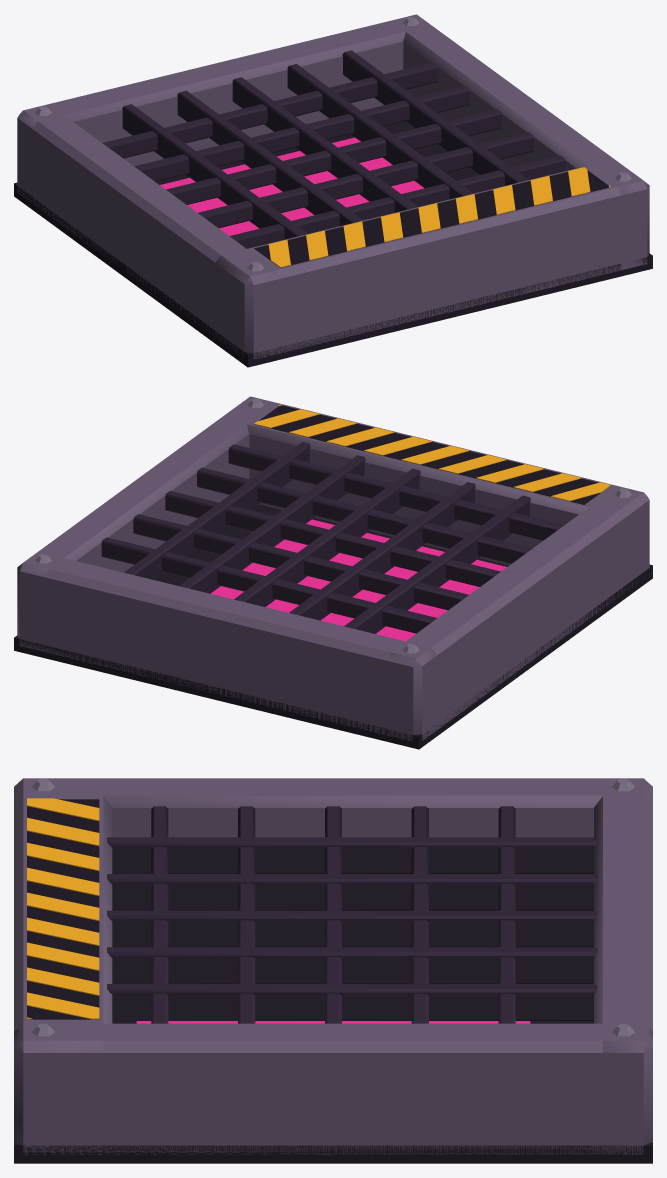
Rendered from floor_grate__lower.glb.
3 renders of one model, top to bottom at view 1: azimuth 30°, elevation 25°; view 2: azimuth 150°, elevation 25°; view 3: azimuth 270°, elevation 25°, orthographic. The views are drawn at different scales.
Parts seen in each view (by area): view 1: floor_grate; view 2: floor_grate; view 3: floor_grate.
Part boxes in pixels (x1,y1,x2,y2): floor_grate: (14, 14, 652, 367); floor_grate: (14, 396, 652, 749); floor_grate: (14, 778, 652, 1163).
Size of the model in its own units: 0.974 by 0.21 by 0.974.
